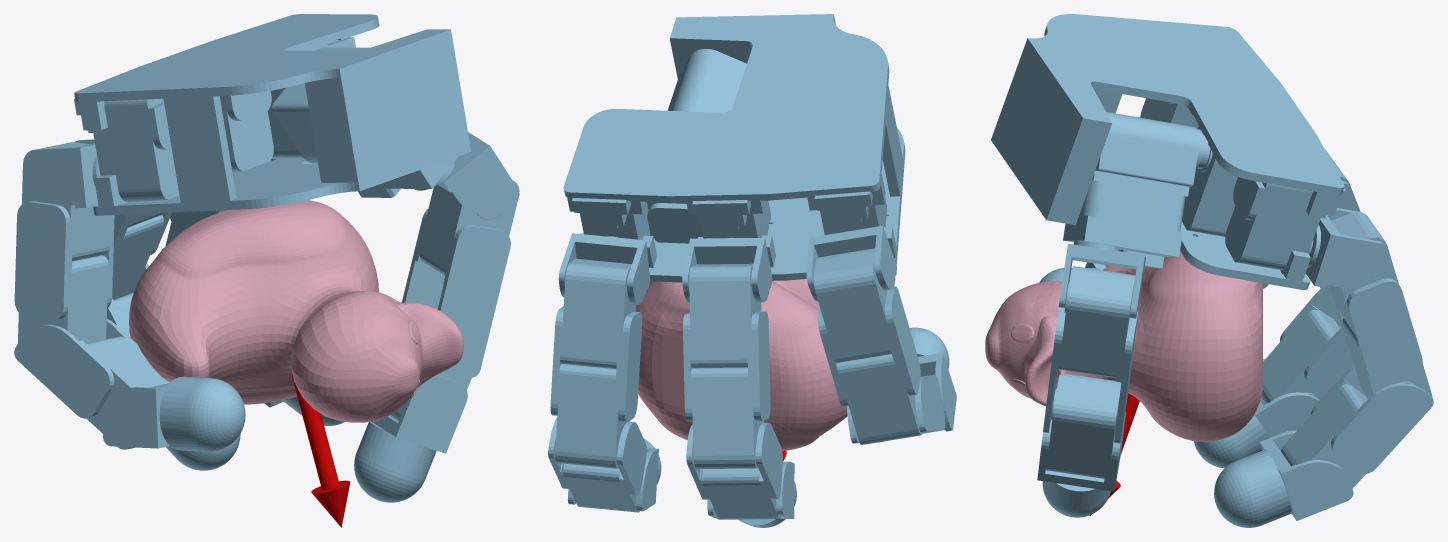
3 renders of one model, left to right at view 1: azimuth 30°, elevation 25°; view 2: azimuth 150°, elevation 25°; view 3: azimuth 270°, elevation 25°, orthographic. The views are drawn at different scales.
Parts seen in each view (by area): view 1: world, rubber_duck.stl; view 2: world, rubber_duck.stl; view 3: world, rubber_duck.stl.
Part boxes in pixels (x1,y1,x2,y2): world: [14, 14, 519, 527]; rubber_duck.stl: [129, 200, 463, 422]; world: [548, 14, 956, 527]; rubber_duck.stl: [636, 279, 847, 451]; world: [991, 14, 1433, 527]; rubber_duck.stl: [985, 250, 1262, 441].
Size of the model in its own units: 0.1568 by 0.1762 by 0.1549.
